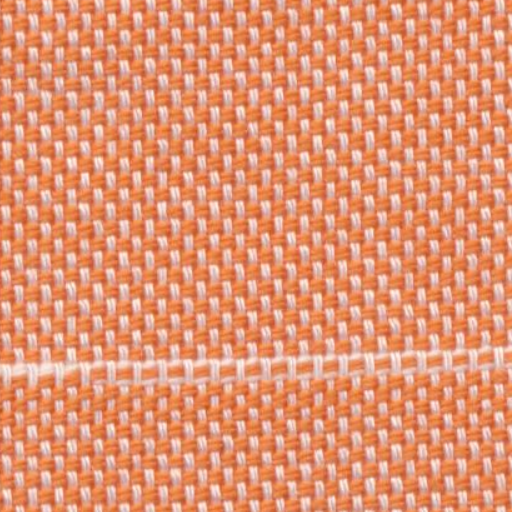TuoSha: (12, 327, 496, 422)
